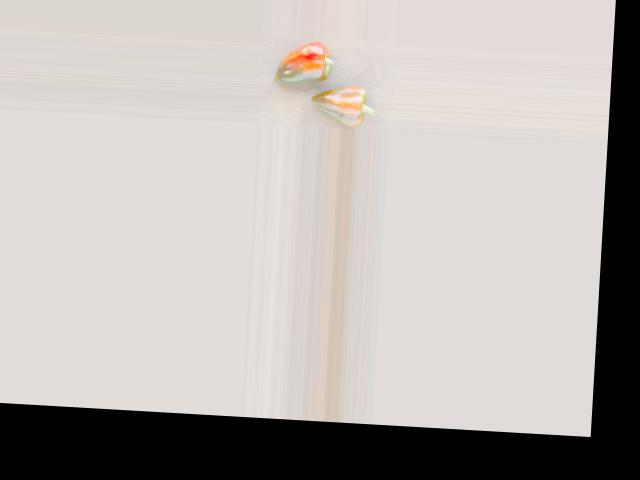bell_pepper: (270, 37, 355, 89)
